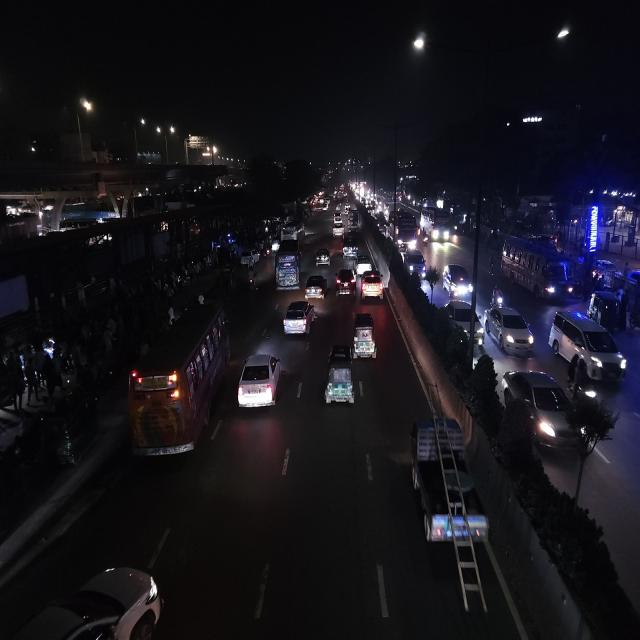bus: (123, 299, 231, 469), (499, 235, 579, 303), (272, 234, 304, 293), (421, 206, 453, 244), (392, 208, 419, 250)
car: (0, 557, 168, 640), (501, 366, 571, 460), (548, 308, 628, 382), (236, 346, 285, 416), (485, 303, 536, 358), (443, 300, 483, 344), (282, 298, 316, 341), (442, 261, 473, 301), (360, 267, 386, 302), (304, 272, 328, 304), (335, 265, 356, 299), (404, 248, 426, 280), (340, 230, 360, 256), (353, 251, 373, 275), (314, 247, 332, 267), (330, 223, 344, 237), (320, 201, 330, 213)
cng: (41, 396, 99, 469), (321, 342, 358, 412), (352, 308, 378, 364), (588, 289, 622, 329)
motorcycle: (489, 284, 505, 310), (247, 267, 257, 293)
pickup_van: (408, 413, 492, 556)
